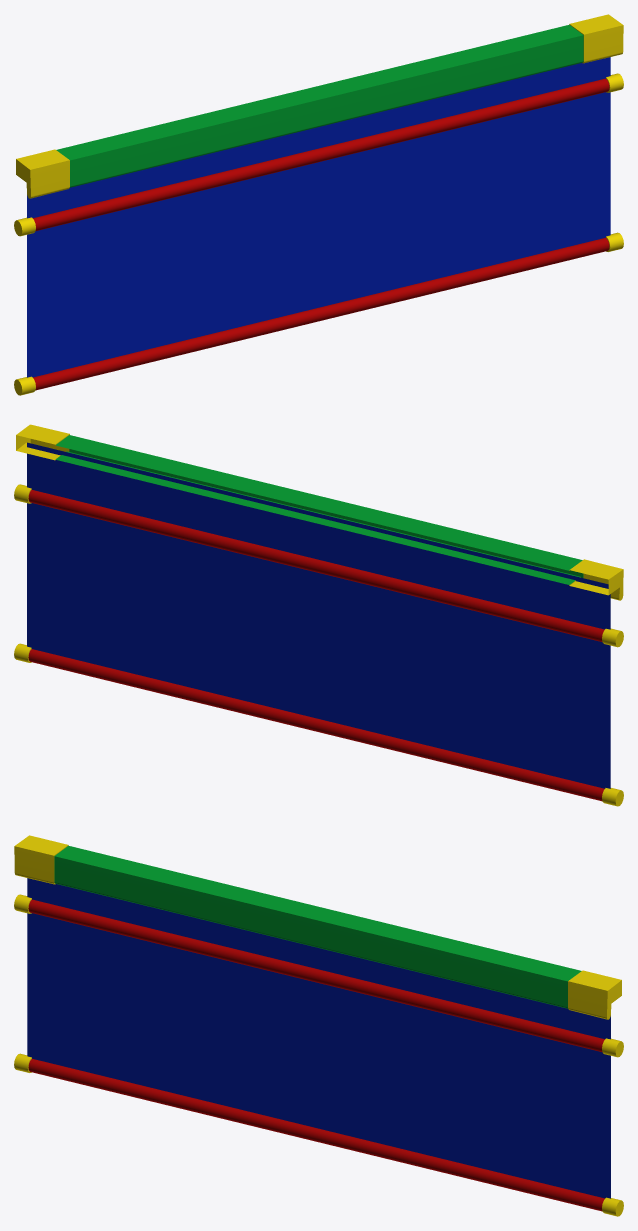
Rendered from Blinds.fbx.
The picture shows the model from 3 angles, top to bottom: view 1: azimuth 30°, elevation 25°; view 2: azimuth 150°, elevation 25°; view 3: azimuth 330°, elevation 25°; orthographic projection.
Visible parts, largest first — view 1: Blinds1, Blinds2; view 2: Blinds1, Blinds2; view 3: Blinds1, Blinds2.
Boxes of the visible parts, bbox=[...] form: Blinds1: bbox=[14, 58, 623, 395]; Blinds2: bbox=[14, 14, 623, 236]; Blinds1: bbox=[14, 443, 623, 806]; Blinds2: bbox=[14, 424, 623, 647]; Blinds1: bbox=[14, 879, 623, 1216]; Blinds2: bbox=[14, 835, 623, 1057].
Size of the model in its own units: 1.27 by 0.4649 by 0.0545.
